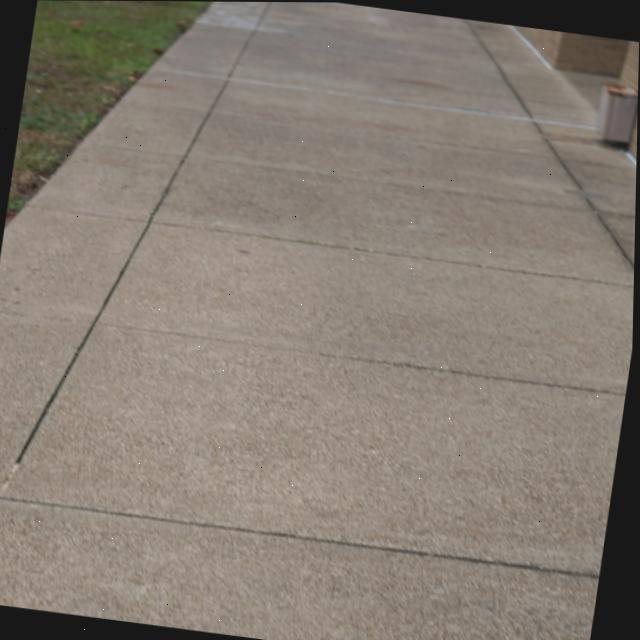Obstacle: (597, 82, 638, 143)
Sidewalk: (0, 1, 637, 640)
